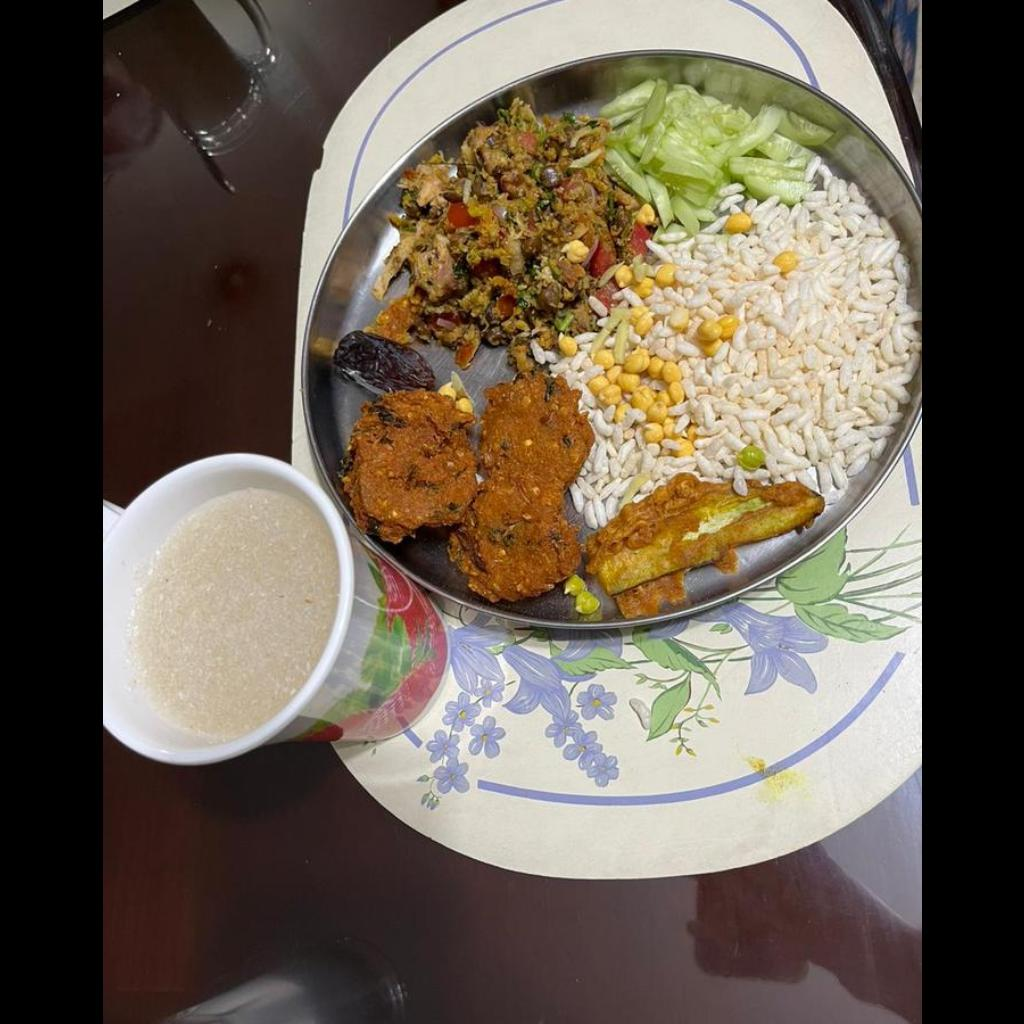beguni: (599, 476, 821, 616)
chola: (386, 109, 627, 332)
dates: (332, 321, 426, 382)
juice: (133, 493, 334, 730)
payesh: (351, 382, 590, 603)
puffed-rice: (683, 190, 910, 488)
salad: (591, 86, 821, 220)
